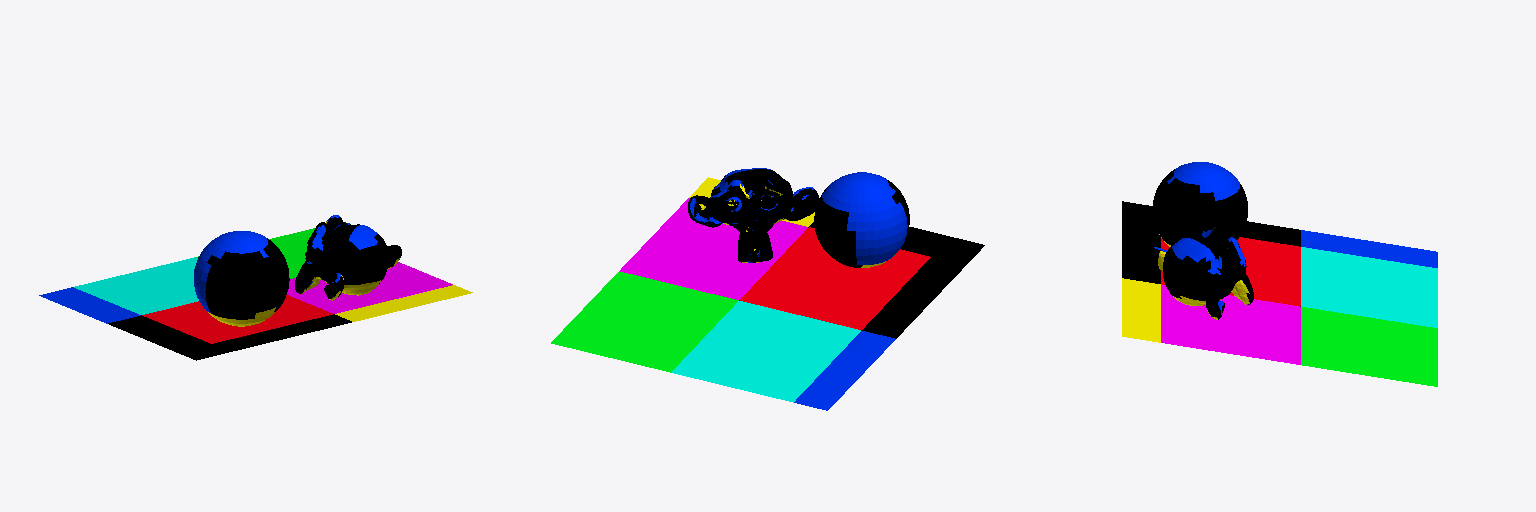
3 renders of one model, left to right at view 1: azimuth 30°, elevation 25°; view 2: azimuth 150°, elevation 25°; view 3: azimuth 270°, elevation 25°, orthographic.
Parts seen in each view (by area): view 1: Plane.003; view 2: Plane.003; view 3: Plane.003.
Part boxes in pixels (x1,y1,x2,y2): Plane.003: (39, 215, 472, 360); Plane.003: (551, 168, 984, 410); Plane.003: (1122, 162, 1437, 386).
Size of the model in its own units: 800 by 349 by 788.
1 materials, 1 textured.